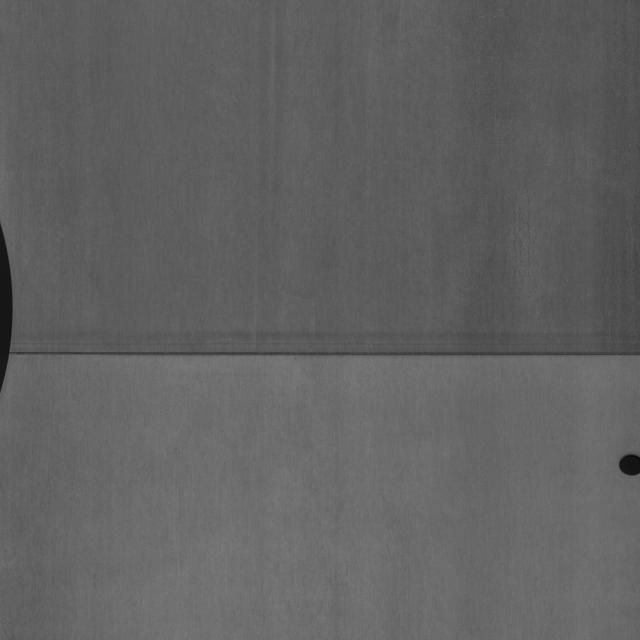crease: (6, 341, 640, 376)
crescent_gap: (614, 442, 640, 480)
silk_spot: (0, 208, 14, 412)
